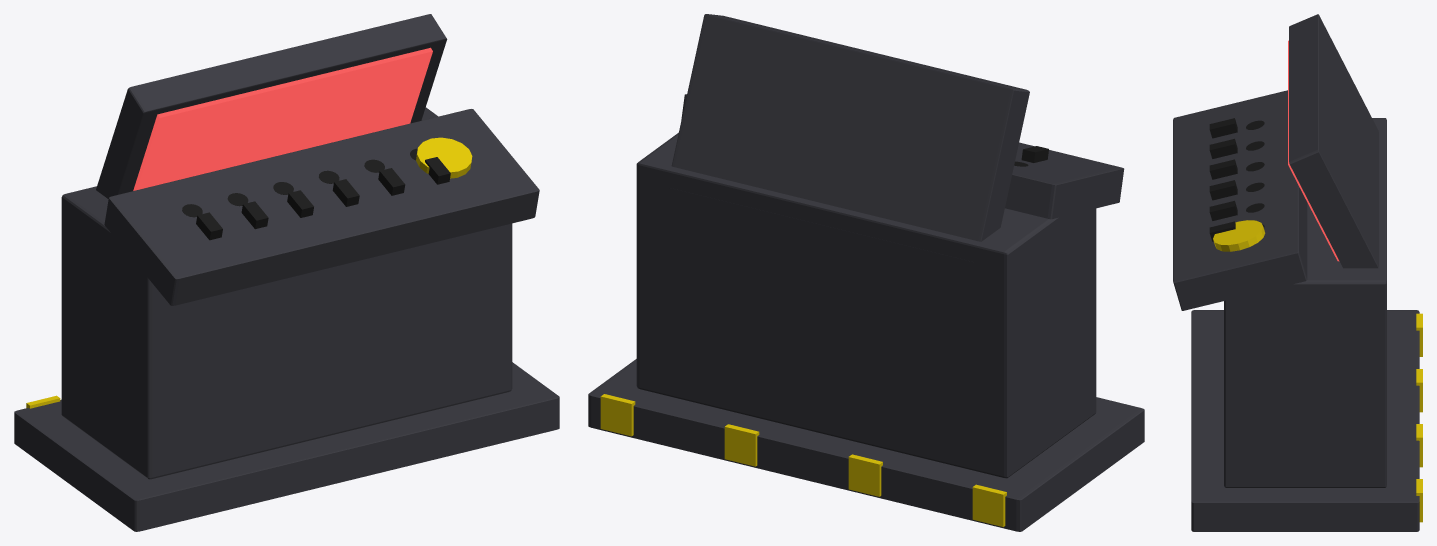
Rendered from shelter_console.glb.
The picture shows the model from 3 angles, left to right: view 1: azimuth 30°, elevation 25°; view 2: azimuth 150°, elevation 25°; view 3: azimuth 270°, elevation 25°; orthographic projection. The views are drawn at different scales.
Visible parts, largest first — view 1: Shelter_Chassis, Shelter_Screen; view 2: Shelter_Chassis; view 3: Shelter_Chassis, Shelter_Screen.
Part boxes in pixels (left/top/right/bottom): Shelter_Chassis: left=14, top=14, right=559, bottom=531; Shelter_Screen: left=133, top=47, right=432, bottom=190; Shelter_Chassis: left=588, top=14, right=1144, bottom=531; Shelter_Chassis: left=1173, top=14, right=1422, bottom=531; Shelter_Screen: left=1288, top=40, right=1339, bottom=261.
Bounding box in the file's own units: 1.4 × 1.2 × 0.7659.
